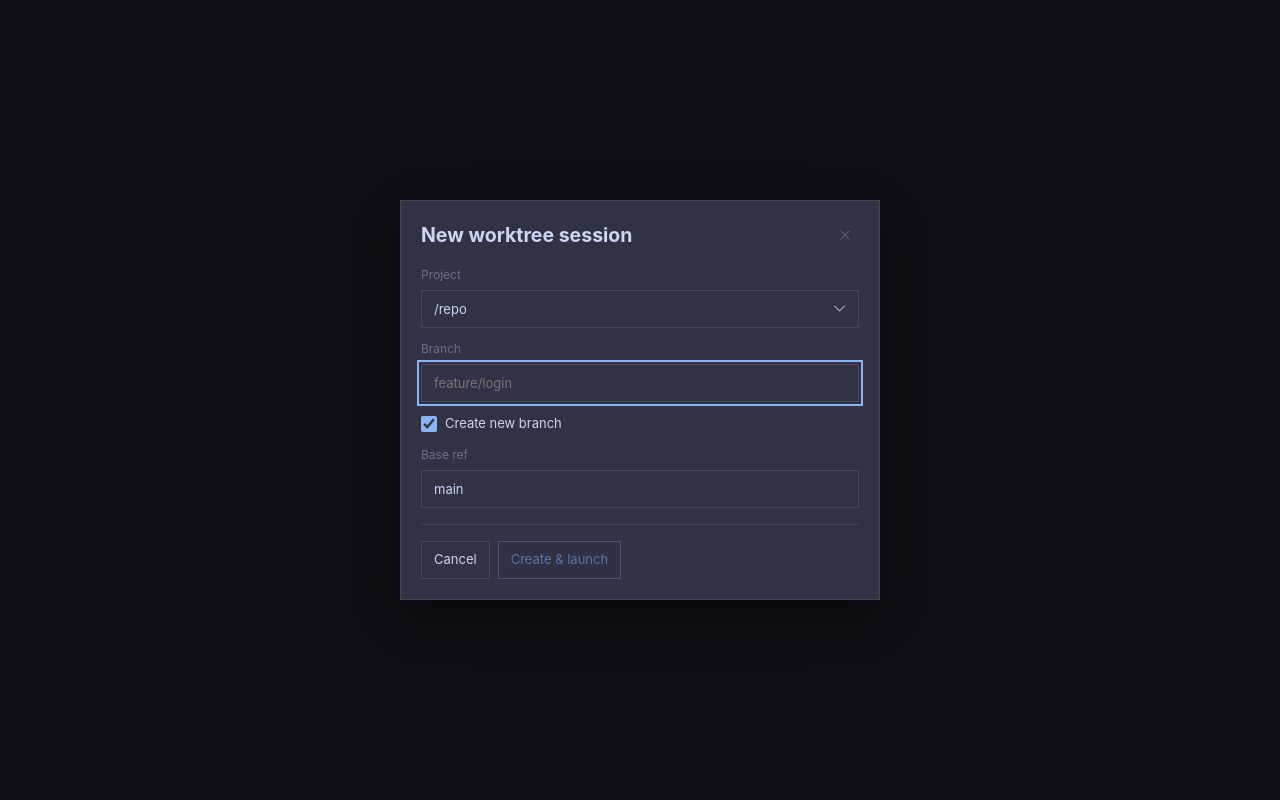
WorktreeFormModal machine ownership › blocks all dismissal actions and edits while creation is pending
The width and height of the screenshot is (1280, 800).
expect the field labelled "Base ref" holds "main": met, box [421,470,859,508]
Type "feature/settings" into the field labelled "Branch" at (640, 383), box [421,364,859,402]
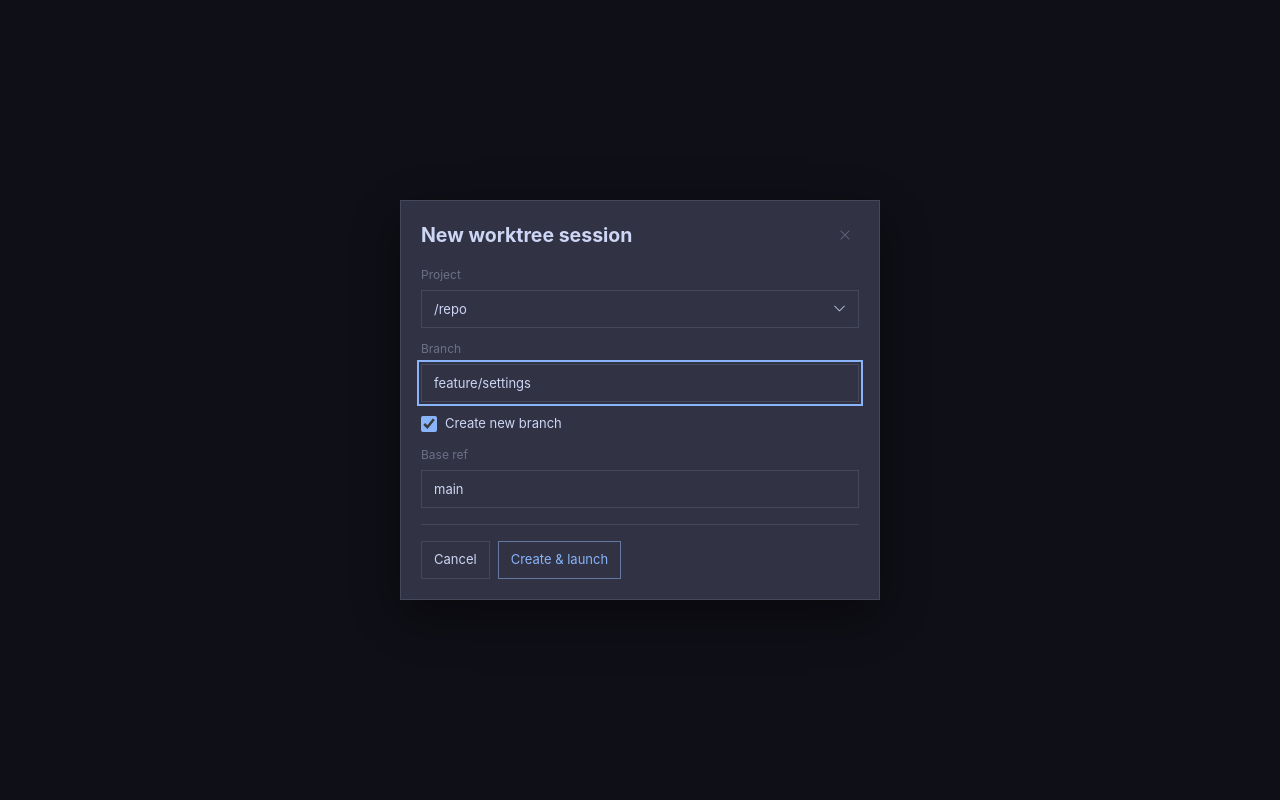
Click the button "Create & launch" at (559, 560), box [498,541,621,579]
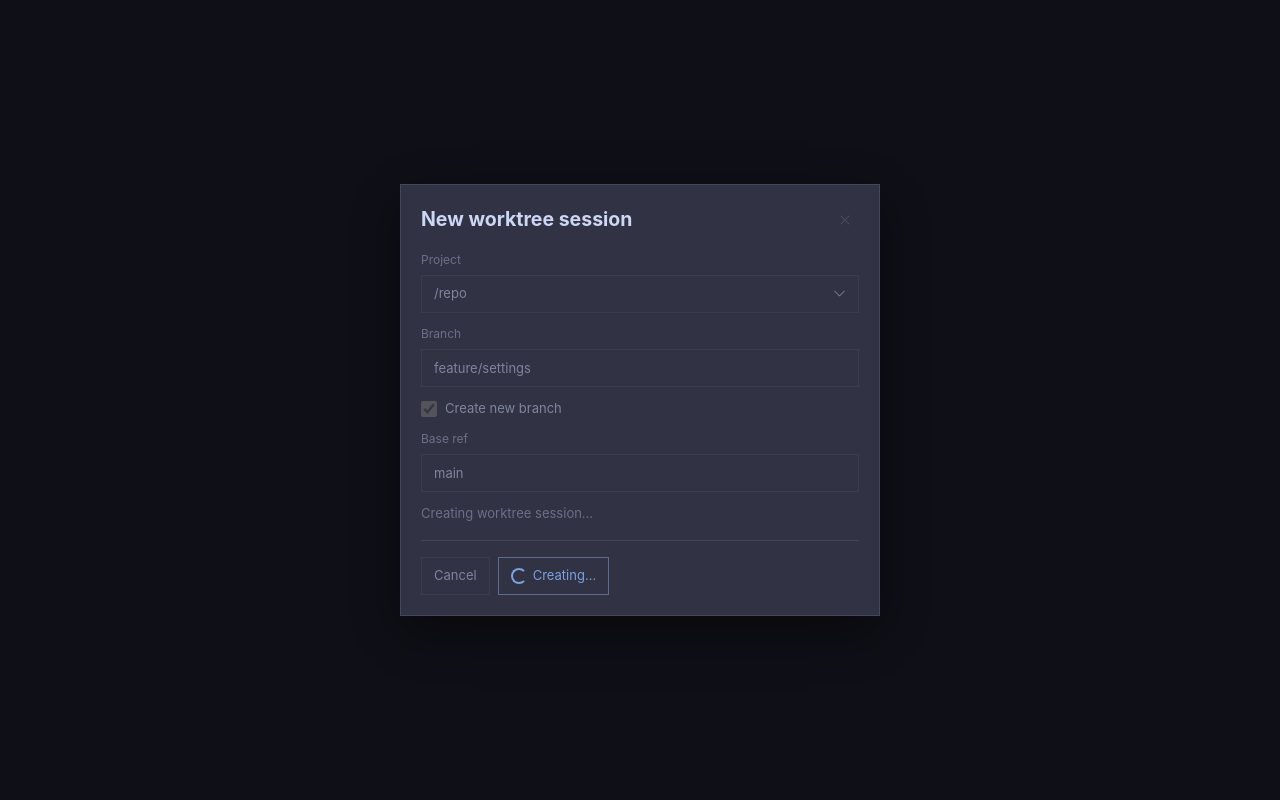
expect the button named "Close worktree session dialog" is disabled: met, box [831,206,859,234]
expect the field labelled "Branch" is disabled: met, box [421,349,859,387]
expect the button "Cancel" is disabled: met, box [421,557,490,595]
Press Escape
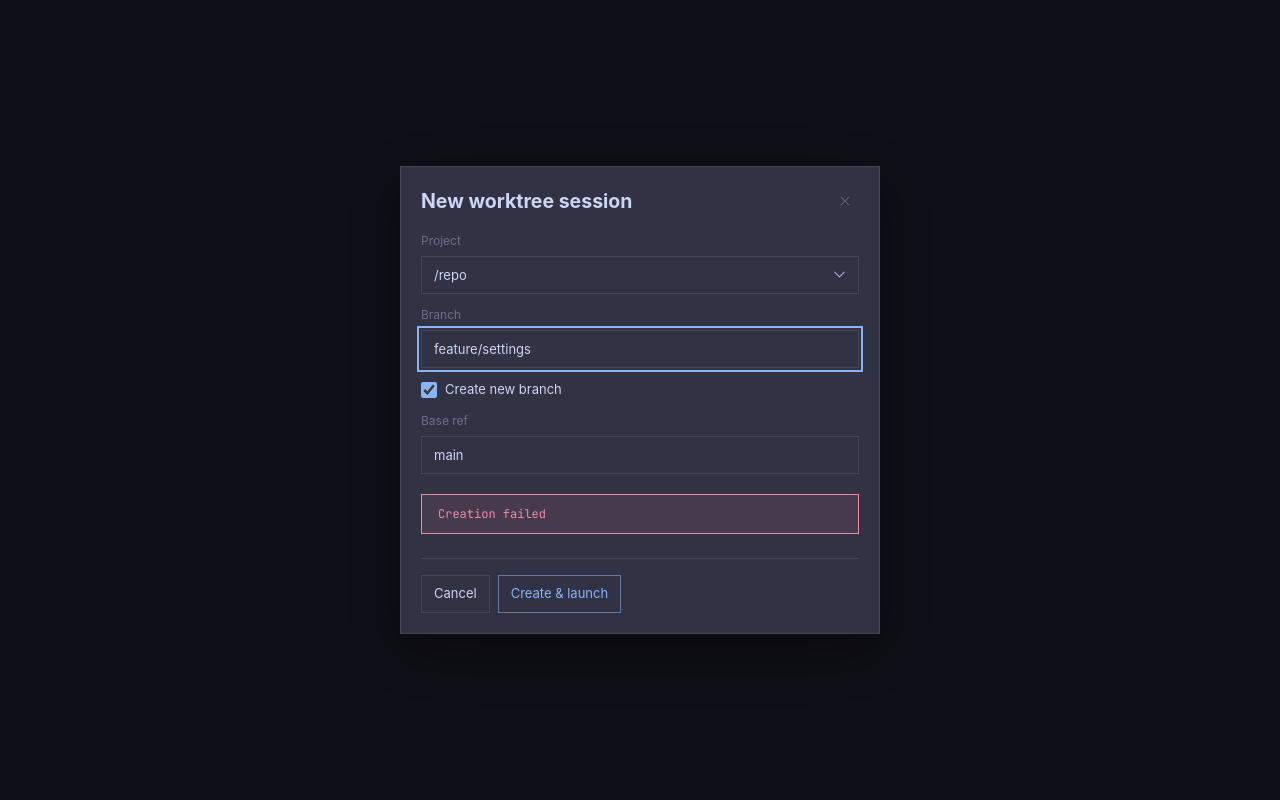
expect the message reads "Creation failed": met, box [438,506,546,522]
expect the field labelled "Branch" is enabled: met, box [421,330,859,368]
